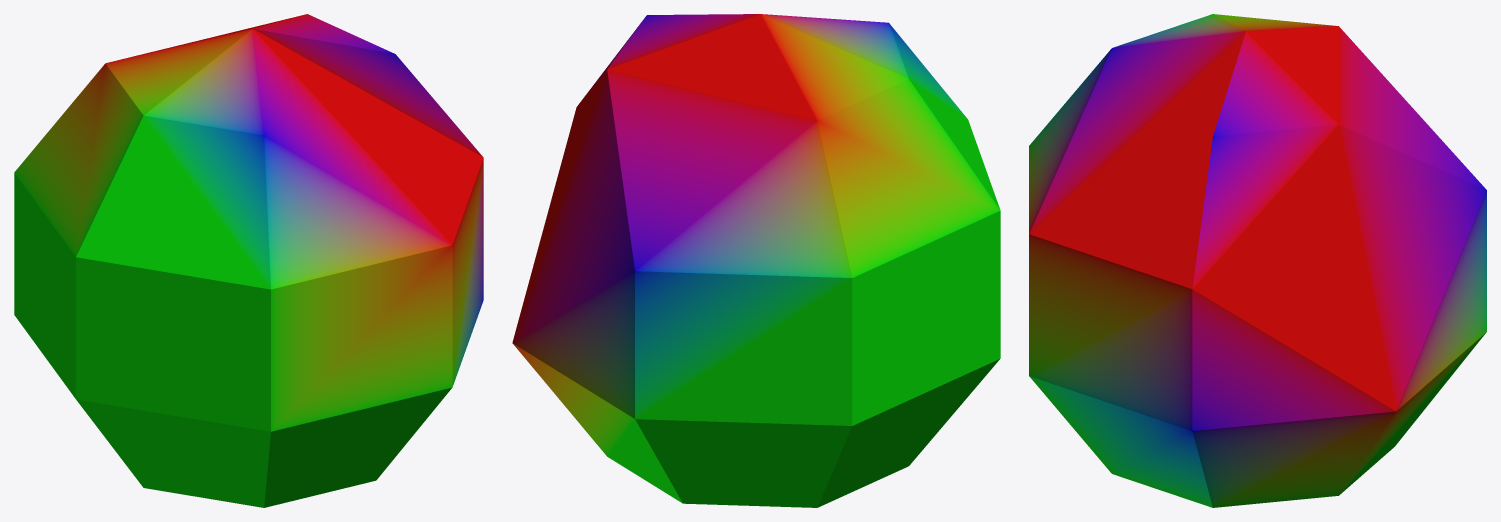
Rendered from after_decimating_conquest_1_5.obj.
3 views of the same model, side by side, from view 1: azimuth 30°, elevation 25°; view 2: azimuth 150°, elevation 25°; view 3: azimuth 270°, elevation 25° (orthographic). The views are drawn at different scales.
Size of the model in its own units: 1.85 by 2 by 1.81.
